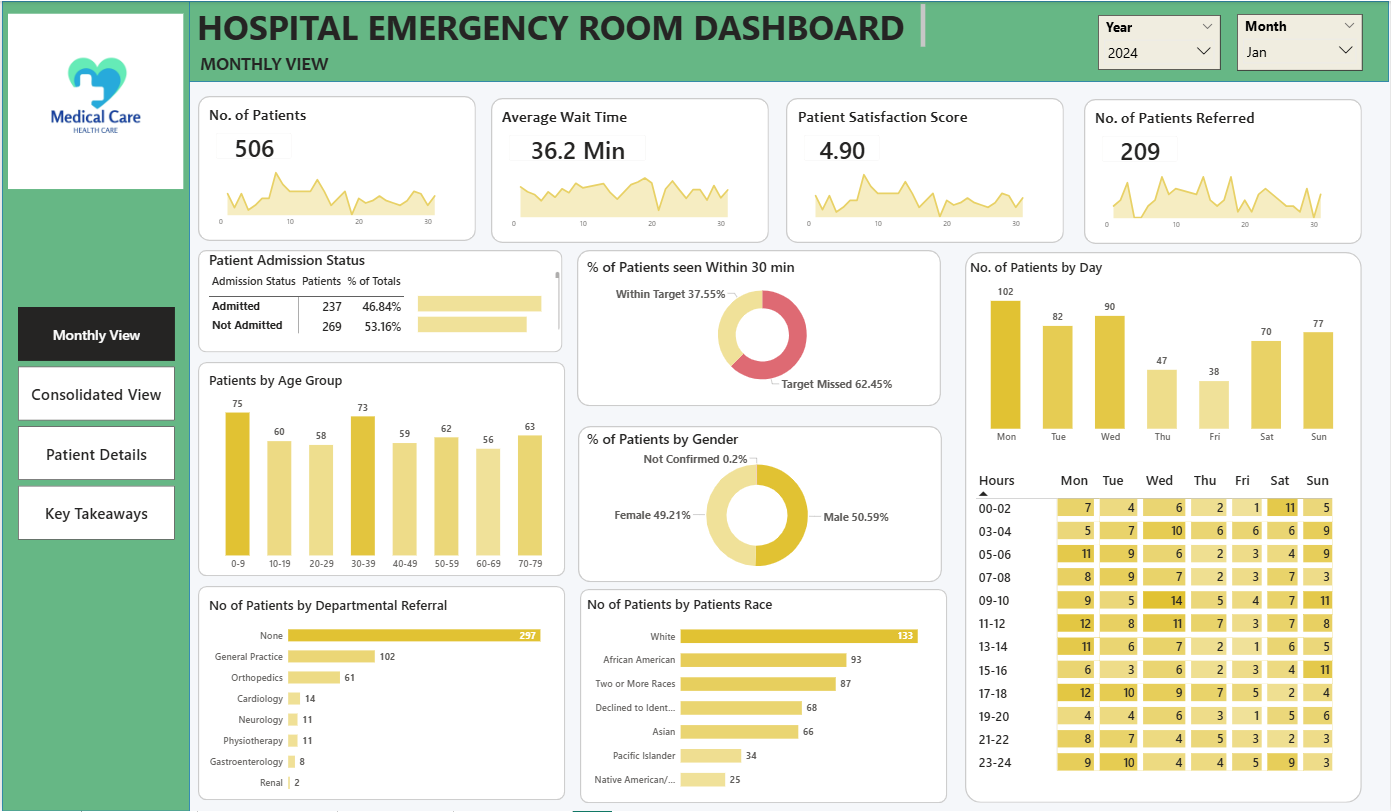

This screenshot's page, from the dashboard's own definition file:
{"tool":"powerbi","page":{"name":"Monthly View","canvas":[2400,1400],"ordinal":0},"visuals":[{"type":"shape","box":[307.7,0,2089.6,140],"z":0},{"type":"shape","box":[338.8,164.2,480.5,250.6],"z":1000},{"type":"textbox","box":[331.9,0,1269.3,85.7],"z":2000},{"type":"textbox","box":[337.4,83.9,299.1,56.5],"z":3000},{"type":"slicer","fields":{"Values":["Date Table.Year"]},"box":[1894.8,23.7,211.6,94.8],"z":4000},{"type":"slicer","fields":{"Values":["Date Table.Month"]},"box":[2133.7,21.9,217,98.5],"z":5000},{"type":"shape","box":[0,0,324.6,1400.6],"z":6000},{"type":"textbox","box":[352.6,176.3,240.2,58.8],"z":7000},{"type":"cardVisual","fields":{"Data":["Hospital ER_Data.No. of Patients"]},"box":[352.6,210.9,165.9,79.5],"z":8000},{"type":"areaChart","fields":{"Category":["Date Table.Date.Variation.Date Hierarchy.Day"],"Y":["Hospital ER_Data.No. of Patients"]},"box":[363,274.8,447.7,124.4],"z":9000},{"type":"shape","box":[845.5,167.7,480.5,250.6],"z":10000},{"type":"textbox","box":[859.4,179.8,240.2,58.8],"z":11000},{"type":"cardVisual","fields":{"Data":["Hospital ER_Data.Avg Wait Time"]},"box":[859,214.3,271.4,79.5],"z":12000},{"type":"areaChart","fields":{"Category":["Date Table.Date.Variation.Date Hierarchy.Day"],"Y":["Avg(Hospital ER_Data.Patient Waittime)"]},"box":[869.7,278.3,447.7,124.4],"z":13000},{"type":"shape","box":[1355.6,168.4,480.5,250.6],"z":14000},{"type":"textbox","box":[1370.1,180.5,330.1,58.8],"z":15000},{"type":"cardVisual","fields":{"Data":["Avg(Hospital ER_Data.Patient Satisfaction Score)"]},"box":[1369.5,215.1,165.9,79.5],"z":16000},{"type":"areaChart","fields":{"Category":["Date Table.Date.Variation.Date Hierarchy.Day"],"Y":["Hospital ER_Data.No. of Patients"]},"box":[1379.8,279,447.7,124.4],"z":17000},{"type":"shape","box":[1869.9,170.1,480.5,250.6],"z":18000},{"type":"textbox","box":[1883.5,182.2,314.6,58.8],"z":19000},{"type":"cardVisual","fields":{"Data":["Hospital ER_Data.No.of Patients Referred"]},"box":[1883.7,216.8,165.9,79.5],"z":20000},{"type":"areaChart","fields":{"Category":["Date Table.Date.Variation.Date Hierarchy.Day"],"Y":["Hospital ER_Data.No.of Patients Referred"]},"box":[1894.1,280.8,447.7,124.4],"z":21000},{"type":"shape","box":[338.1,429.8,630,177],"z":22000},{"type":"pivotTable","title":"Patient Admission Status","fields":{"Rows":["Hospital ER_Data.Admission Status"],"Values":["Hospital ER_Data.No. of Patients1","Hospital ER_Data.No. of Patients"]},"box":[351.9,429.8,617,148.6],"z":23000},{"type":"barChart","fields":{"Category":["Hospital ER_Data.Admission Status"],"Y":["Hospital ER_Data.No. of Patients"]},"box":[714.2,478.3,248,118.5],"z":24000},{"type":"shape","box":[339.2,623.4,634.7,370.2],"z":25000},{"type":"shape","box":[1665,434,685.7,952],"z":26000},{"type":"clusteredColumnChart","title":"Patients by Age Group","fields":{"Category":["Hospital ER_Data.Age Group"],"Y":["Hospital ER_Data.No. of Patients"]},"box":[352.4,639.7,616.4,353.8],"z":27000},{"type":"shape","box":[339.2,1011.9,634.7,370.2],"z":28000},{"type":"clusteredBarChart","title":"No of Patients by Departmental Referral","fields":{"Category":["Hospital ER_Data.Department Referral"],"Y":["Hospital ER_Data.No. of Patients"]},"box":[352.7,1028.4,616.4,353.8],"z":29000},{"type":"shape","box":[993.9,430.4,629.2,269.9],"z":30000},{"type":"donutChart","title":"% of Patients seen Within 30 min","fields":{"Category":["Hospital ER_Data.Waittime Status"],"Y":["Hospital ER_Data.No. of Patients"]},"box":[1006.7,443.2,616.4,237.1],"z":31000},{"type":"shape","box":[994.8,734,629.2,269.9],"z":32000},{"type":"donutChart","title":"% of Patients by Gender","fields":{"Category":["Hospital ER_Data.Patient Gender"],"Y":["Hospital ER_Data.No. of Patients"]},"box":[1006.7,740.4,598.2,266.3],"z":33000},{"type":"shape","box":[998.4,1016.4,634.7,370.2],"z":34000},{"type":"clusteredBarChart","title":"No of Patients by Patients Race","fields":{"Y":["Hospital ER_Data.No. of Patients"],"Category":["Hospital ER_Data.Patient Race"]},"box":[1006.7,1026.7,616.4,353.8],"z":35000},{"type":"pivotTable","fields":{"Rows":["Hospital ER_Data.Waittime Interval"],"Columns":["Date Table.Day Name"],"Values":["Hospital ER_Data.No. of Patients"]},"box":[1677.8,807.9,663.8,559.9],"z":36000},{"type":"columnChart","title":"No. of Patients by Day","fields":{"Y":["Hospital ER_Data.No. of Patients"],"Category":["Date Table.Day Name"]},"box":[1668.7,445,676.6,330.1],"z":37000},{"type":"image","box":[10.9,0,302.7,346.5],"z":38000},{"type":"pageNavigator","box":[27.7,528.9,271.4,402.7],"z":39000}]}

Visuals, with their boxes in screenshot pixels (x1, y1, x2, y2), scaled from the page's 2400x1400 canvas onto the 1391x812 screenshot:
shape: 178, 0, 1389, 81
shape: 196, 95, 475, 241
textbox: 192, 0, 928, 50
textbox: 196, 49, 369, 81
slicer - Date Table.Year: 1098, 14, 1221, 69
slicer - Date Table.Month: 1237, 13, 1362, 70
shape: 0, 0, 188, 811
textbox: 204, 102, 344, 136
cardVisual - Hospital ER_Data.No. of Patients: 204, 122, 301, 168
areaChart - Date Table.Date.Variation.Date Hierarchy.Day x Hospital ER_Data.No. of Patients: 210, 159, 470, 232
shape: 490, 97, 769, 243
textbox: 498, 104, 637, 138
cardVisual - Hospital ER_Data.Avg Wait Time: 498, 124, 655, 170
areaChart - Date Table.Date.Variation.Date Hierarchy.Day x Avg(Hospital ER_Data.Patient Waittime): 504, 161, 764, 234
shape: 786, 98, 1064, 243
textbox: 794, 105, 985, 139
cardVisual - Avg(Hospital ER_Data.Patient Satisfaction Score): 794, 125, 890, 171
areaChart - Date Table.Date.Variation.Date Hierarchy.Day x Hospital ER_Data.No. of Patients: 800, 162, 1059, 234
shape: 1084, 99, 1362, 244
textbox: 1092, 106, 1274, 140
cardVisual - Hospital ER_Data.No.of Patients Referred: 1092, 126, 1188, 172
areaChart - Date Table.Date.Variation.Date Hierarchy.Day x Hospital ER_Data.No.of Patients Referred: 1098, 163, 1357, 235
shape: 196, 249, 561, 352
"Patient Admission Status" pivotTable: 204, 249, 562, 335
barChart - Hospital ER_Data.Admission Status x Hospital ER_Data.No. of Patients: 414, 277, 558, 346
shape: 197, 362, 564, 576
shape: 965, 252, 1362, 804
"Patients by Age Group" clusteredColumnChart: 204, 371, 562, 576
shape: 197, 587, 564, 802
"No of Patients by Departmental Referral" clusteredBarChart: 204, 596, 562, 802
shape: 576, 250, 941, 406
"% of Patients seen Within 30 min" donutChart: 583, 257, 941, 395
shape: 577, 426, 941, 582
"% of Patients by Gender" donutChart: 583, 429, 930, 584
shape: 579, 590, 947, 804
"No of Patients by Patients Race" clusteredBarChart: 583, 595, 941, 801
pivotTable - Hospital ER_Data.Waittime Interval x Date Table.Day Name: 972, 469, 1357, 793
"No. of Patients by Day" columnChart: 967, 258, 1359, 450
image: 6, 0, 182, 201
pageNavigator: 16, 307, 173, 540
